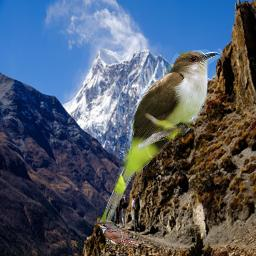Cuckoo: (98, 49, 220, 229), (94, 220, 160, 252)
